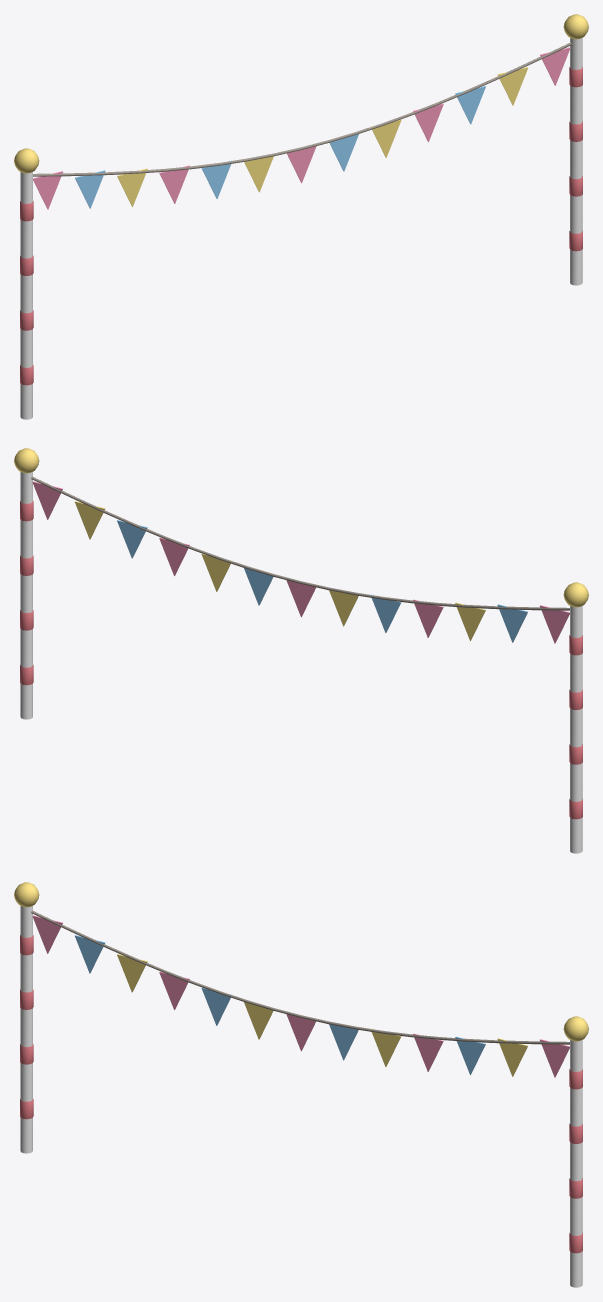
Rendered from RockinRacewayBunting.glb.
3 renders of one model, top to bottom at view 1: azimuth 30°, elevation 25°; view 2: azimuth 150°, elevation 25°; view 3: azimuth 330°, elevation 25°, orthographic.
Parts seen in each view (by area): view 1: Pole, FlagA, FlagC, FlagB, Stripes, String, Top; view 2: Pole, FlagA, FlagC, FlagB, Stripes, String, Top; view 3: Pole, FlagA, FlagB, FlagC, Stripes, String, Top.
Part boxes in pixels (x1=…): Pole: x1=20, y1=38, x2=582, y2=419; FlagA: x1=33, y1=47, x2=570, y2=209; FlagC: x1=117, y1=67, x2=527, y2=206; FlagB: x1=75, y1=86, x2=485, y2=208; Stripes: x1=20, y1=67, x2=582, y2=385; String: x1=33, y1=42, x2=571, y2=176; Top: x1=14, y1=14, x2=588, y2=173; Pole: x1=20, y1=472, x2=582, y2=853; FlagA: x1=32, y1=481, x2=569, y2=643; FlagC: x1=75, y1=501, x2=485, y2=640; FlagB: x1=117, y1=520, x2=527, y2=642; Stripes: x1=20, y1=501, x2=582, y2=819; String: x1=31, y1=476, x2=569, y2=610; Top: x1=14, y1=448, x2=588, y2=607; Pole: x1=20, y1=906, x2=582, y2=1287; FlagA: x1=32, y1=915, x2=569, y2=1077; FlagB: x1=75, y1=935, x2=485, y2=1074; FlagC: x1=117, y1=954, x2=527, y2=1076; Stripes: x1=20, y1=935, x2=582, y2=1253; String: x1=31, y1=910, x2=569, y2=1044; Top: x1=14, y1=882, x2=588, y2=1041.
Size of the model in its own units: 20.8 by 9.3 by 0.8.
